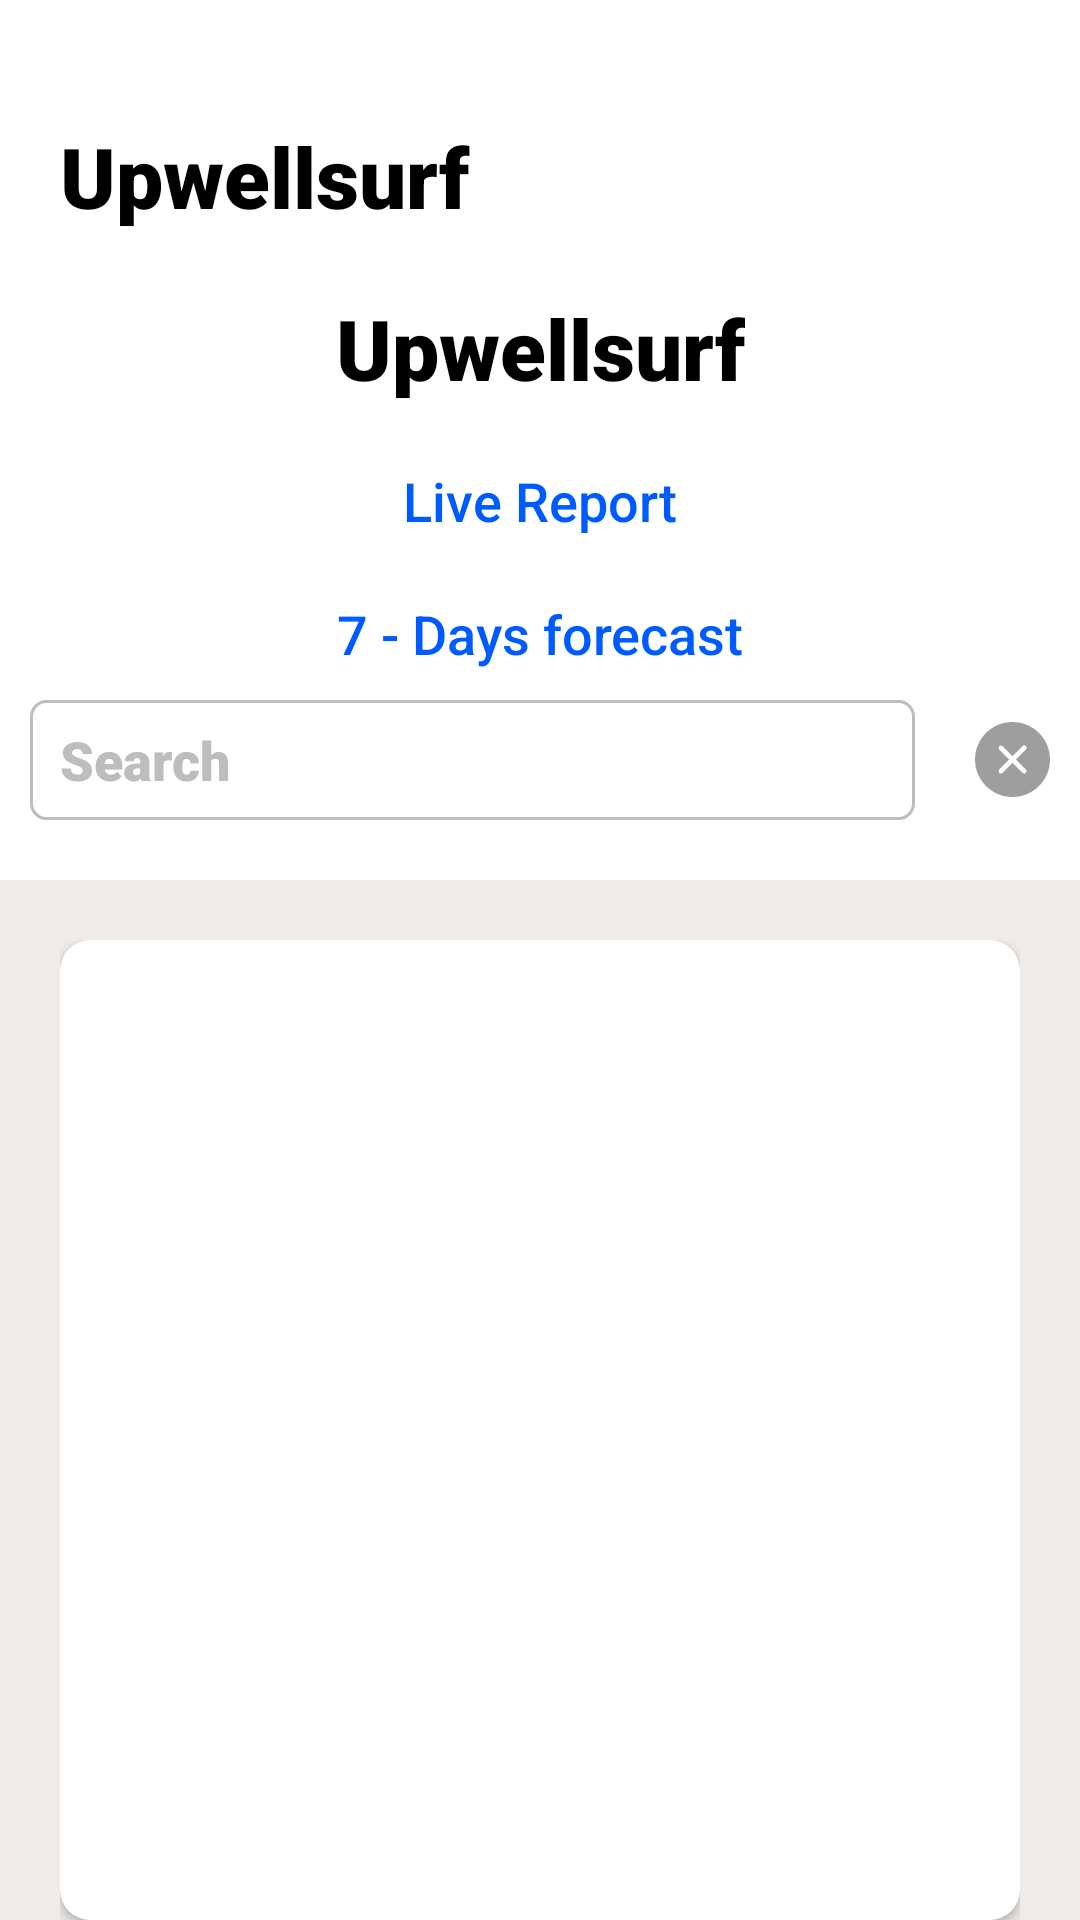

Icon bounding boxes for this 1080x1920 phone screenshot, format bbox=(x1, y1, x2, y2):
cross: bbox=(975, 722, 1050, 797)
